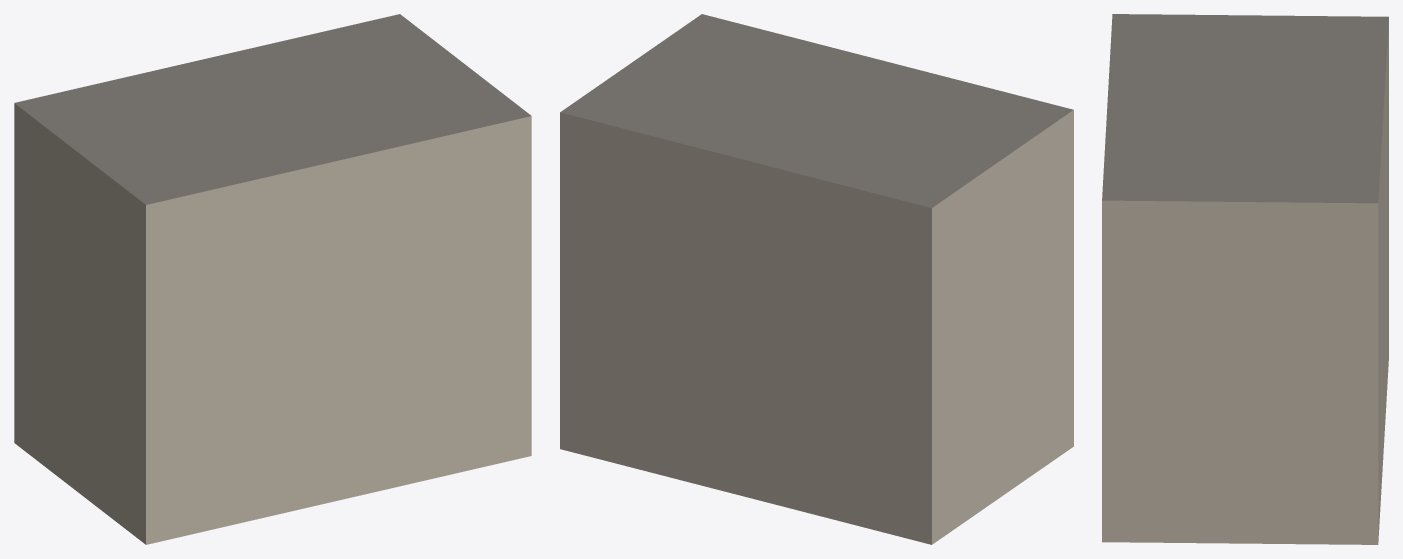
The picture shows the model from 3 angles, left to right: view 1: azimuth 30°, elevation 25°; view 2: azimuth 150°, elevation 25°; view 3: azimuth 270°, elevation 25°; orthographic projection.
Parts seen in each view (by area): view 1: HP-w858824350; view 2: HP-w858824350; view 3: HP-w858824350.
Boxes of the visible parts, x1,y1,x2,y2 form: HP-w858824350: [14, 14, 531, 544]; HP-w858824350: [560, 14, 1073, 544]; HP-w858824350: [1102, 14, 1388, 544].
Bounding box in the file's own units: 21.4 × 18 × 13.7.
